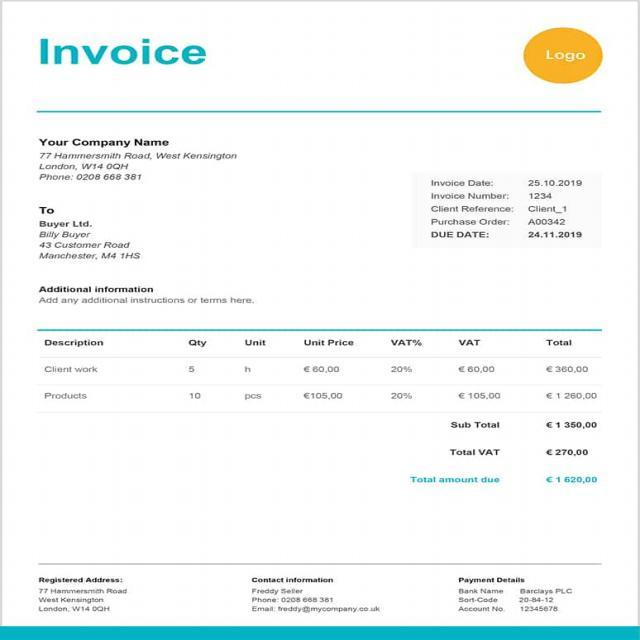customer_name: (38, 219, 98, 241)
due_date: (524, 227, 585, 243)
invoice_date: (526, 176, 589, 189)
invoice_number: (38, 239, 142, 262), (526, 192, 556, 202)
invoice_subtotal: (539, 417, 601, 432)
invoice_total: (538, 359, 604, 404), (540, 472, 602, 487)
item_description: (37, 363, 108, 405)
item_quantity: (177, 362, 209, 407)
item_unit_price: (294, 359, 351, 407)
supplier_address: (37, 148, 240, 170)
supplier_name: (39, 132, 171, 149)
tax_amount: (541, 444, 594, 460)
